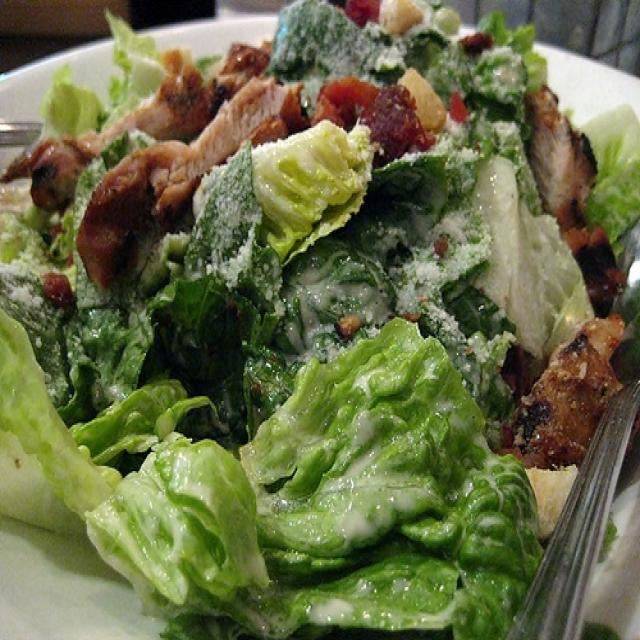蔬菜料理: (8, 5, 623, 623)
